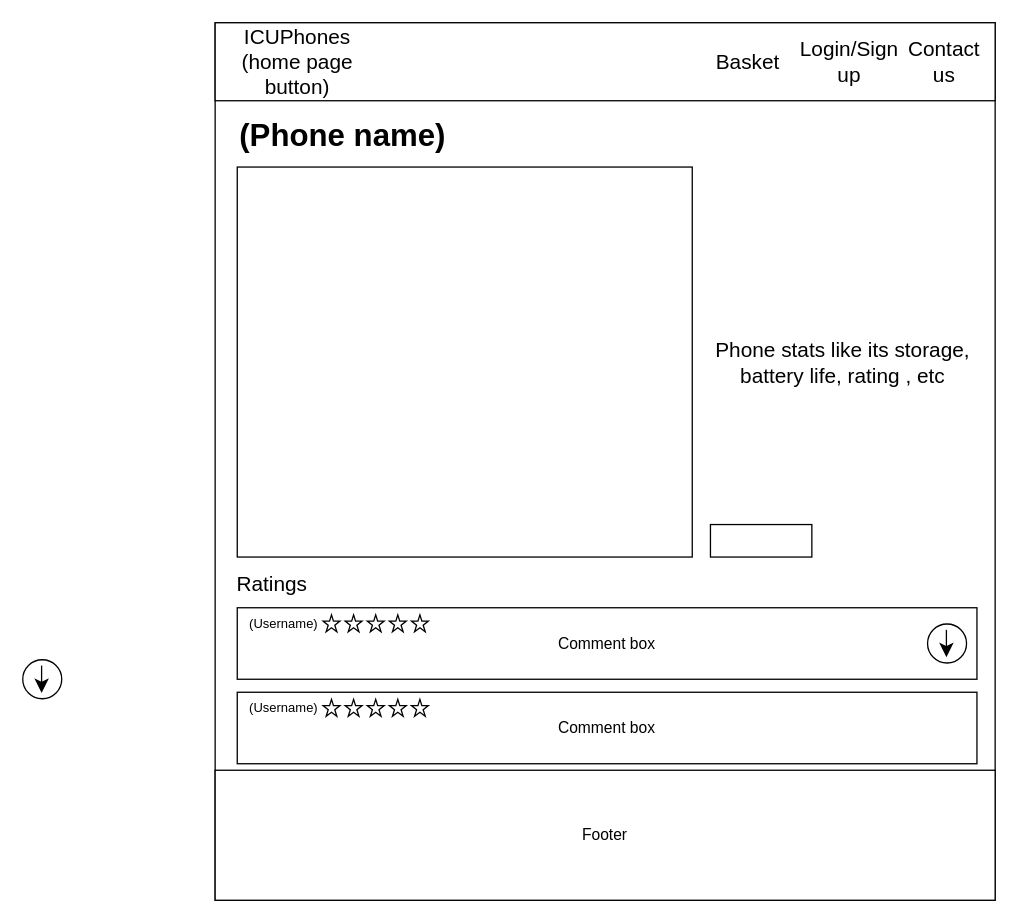
This 1018x923 diagram has some shape labels left out. Each missing label, with the box of its shape:
Add to basket: (709, 523, 812, 557)
Picture of phone: (236, 166, 692, 557)
